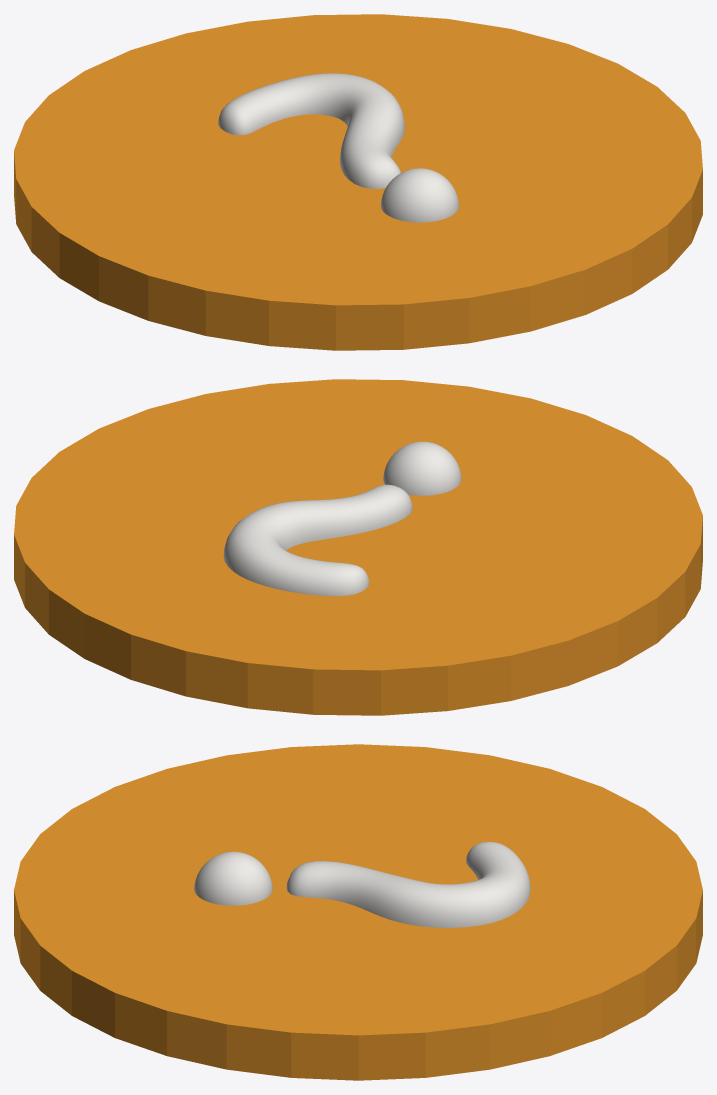
File: NapHop.fbx
The picture shows the model from 3 angles, top to bottom: view 1: azimuth 30°, elevation 25°; view 2: azimuth 150°, elevation 25°; view 3: azimuth 270°, elevation 25°; orthographic projection.
Visible parts, largest first — view 1: Q_Sphere; view 2: Q_Sphere; view 3: Q_Sphere.
Boxes of the visible parts, box(x1,y1,x2,y2) form: Q_Sphere: box(14, 14, 702, 350); Q_Sphere: box(14, 379, 702, 715); Q_Sphere: box(14, 744, 702, 1080).
Bounding box in the file's own units: 100 × 12.69 × 100.
